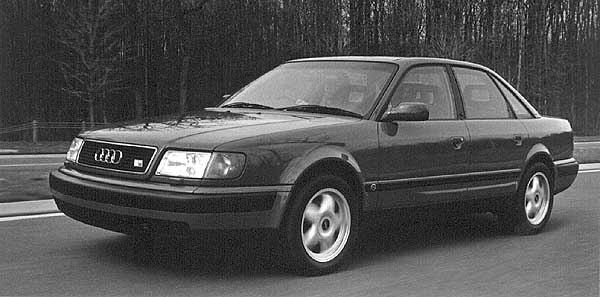Car: (39, 43, 592, 278)
